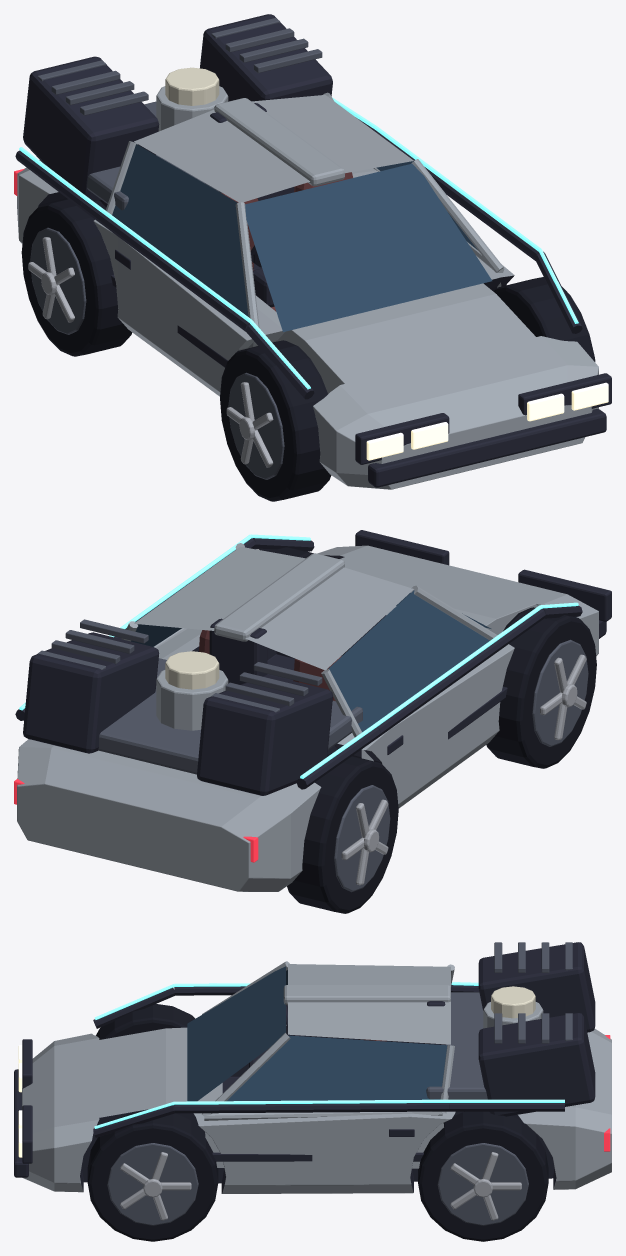
The model's file is delorean.glb.
The picture shows the model from 3 angles, top to bottom: view 1: azimuth 30°, elevation 25°; view 2: azimuth 150°, elevation 25°; view 3: azimuth 270°, elevation 25°; orthographic projection. The views are drawn at different scales.
Parts seen in each view (by area): view 1: stainless_wedge, windshield, gullwing_window, rear_vent_housing, tire_front_left.002, tire_rear_left.002, gullwing_roof, rear_vent_housing.001, gullwing_roof.001, front_rub_strip, roof_spine, tire_front_right.002 (+26 smaller); view 2: stainless_wedge, rear_vent_housing, gullwing_window, rear_vent_housing.001, gullwing_roof, tire_front_left.002, tire_rear_left.002, gullwing_roof.001, rear_equipment_plate, roof_spine, rim_recess.010, rim_recess.008 (+20 smaller); view 3: stainless_wedge, gullwing_window.001, rear_vent_housing.001, tire_rear_right.002, windshield, tire_front_right.002, gullwing_roof.001, rear_vent_housing, rim_recess.009, rim_recess.011, rear_equipment_plate, gullwing_roof (+19 smaller).
Boxes of the visible parts, x1,y1,x2,y2 form: stainless_wedge: (17,160,598,489); windshield: (245,163,492,331); gullwing_window: (112,144,248,316); rear_vent_housing: (23,56,159,202); tire_front_left.002: (220,340,331,501); tire_rear_left.002: (21,199,132,356); gullwing_roof: (134,110,309,202); rear_vent_housing.001: (200,14,332,101); gullwing_roof.001: (251,95,413,173); front_rub_strip: (368,409,606,487); roof_spine: (214,98,344,186); tire_front_right.002: (493,277,595,361); stainless_wedge: (17,545,598,891); rear_vent_housing: (197,674,332,795); gullwing_window: (328,590,489,731); rear_vent_housing.001: (23,632,159,753); gullwing_roof: (245,567,413,670); tire_front_left.002: (486,607,596,768); tire_rear_left.002: (287,753,398,913); gullwing_roof.001: (134,546,305,630); rear_equipment_plate: (98,658,362,774); roof_spine: (214,553,344,641); rim_recess.010: (334,785,390,892); rim_recess.008: (532,639,588,746); stainless_wedge: (22,1025,611,1193); gullwing_window.001: (226,1035,447,1101); rear_vent_housing.001: (478,1013,595,1116); tire_rear_right.002: (418,1111,548,1241); windshield: (187,966,285,1101); tire_front_right.002: (87,1110,218,1241); gullwing_roof.001: (288,1001,450,1044); rear_vent_housing: (478,942,595,1032); rim_recess.009: (107,1143,198,1225); rim_recess.011: (437,1143,528,1225); rear_equipment_plate: (426,992,487,1099); gullwing_roof: (288,964,450,986).
Bounding box in the file's own units: 1.47 × 0.9875 × 2.79.
